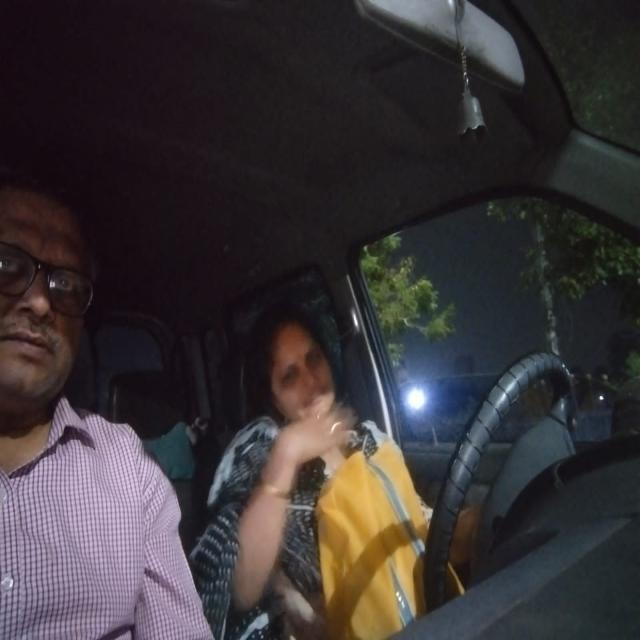mobile: (260, 399, 326, 480)
person: (0, 179, 100, 417), (259, 314, 333, 400)
